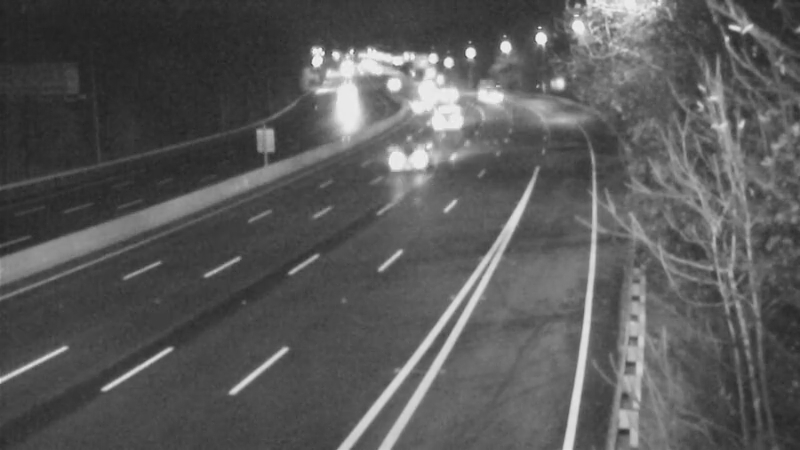vehicle: (362, 119, 442, 199), (369, 59, 419, 109), (424, 71, 474, 121), (455, 67, 505, 117), (420, 80, 470, 130), (387, 79, 437, 129), (423, 95, 473, 145), (315, 70, 365, 120)
